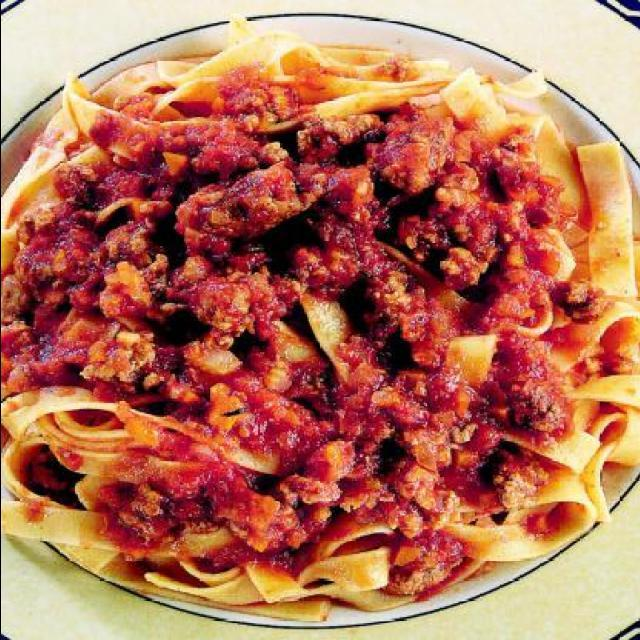Pasta al ragu: (38, 71, 620, 600)
